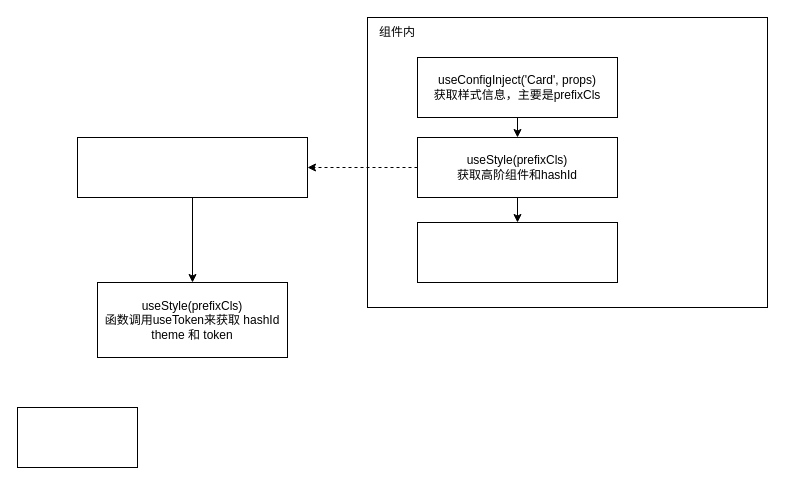
Image size: 785x485. Some labels were removed from this diagram. Each missing label, with the centre of its shape:
useStyle实际上是通过getComponentStyleHook('Card', styleFn) 生成的: the point at 192,167
根据需求组装classList 使用高阶组件渲染本组件: the point at 517,252
